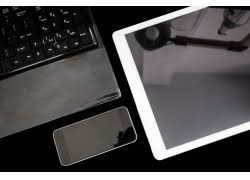mobil: (51, 104, 138, 167)
